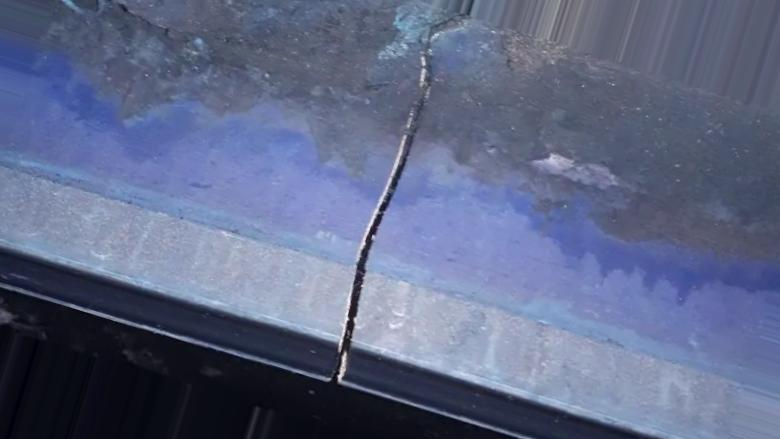railway-gap: (200, 0, 554, 422)
